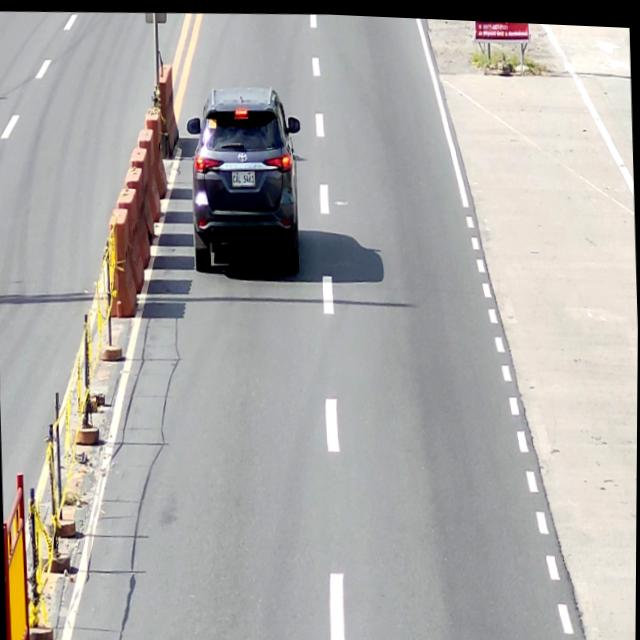Car: (183, 78, 306, 276)
License-Plate: (231, 166, 256, 185)
